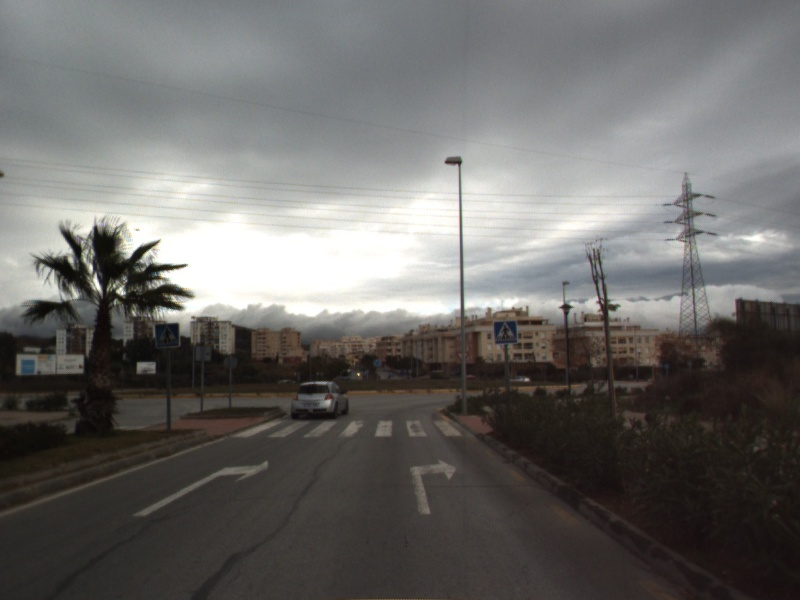RIGHT: (130, 458, 270, 518), (408, 457, 459, 516)
